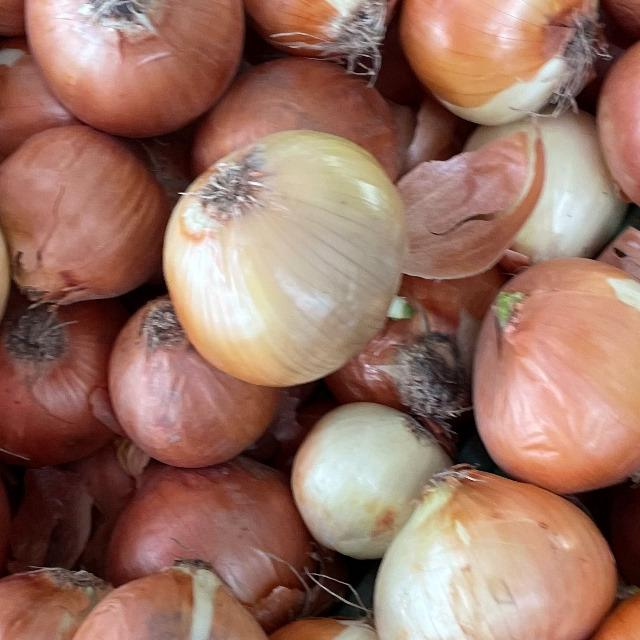onion: (352, 447, 637, 640), (455, 240, 640, 490), (12, 0, 255, 150), (385, 0, 632, 127), (52, 537, 305, 640)
